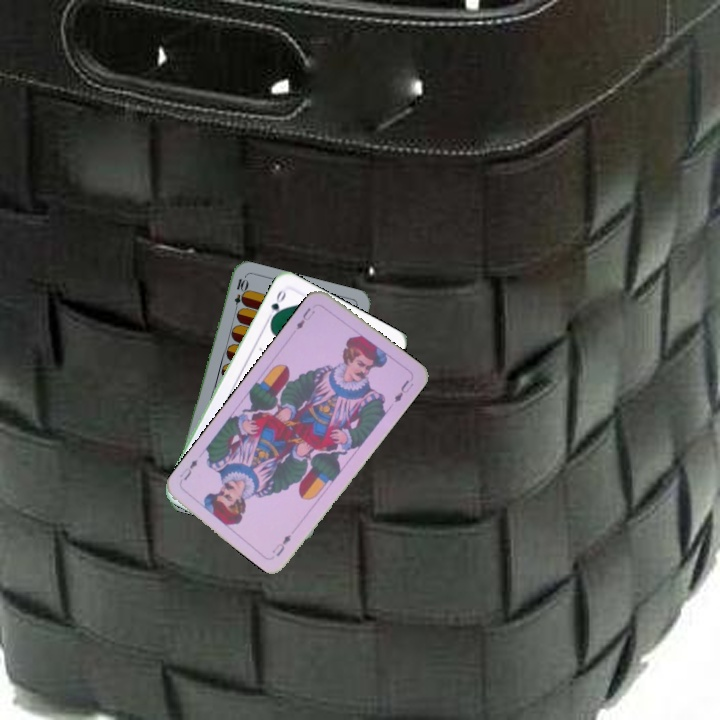E10: (230, 275, 249, 315)
EU: (292, 303, 318, 333), (268, 530, 293, 559)
GO: (263, 286, 289, 324)
